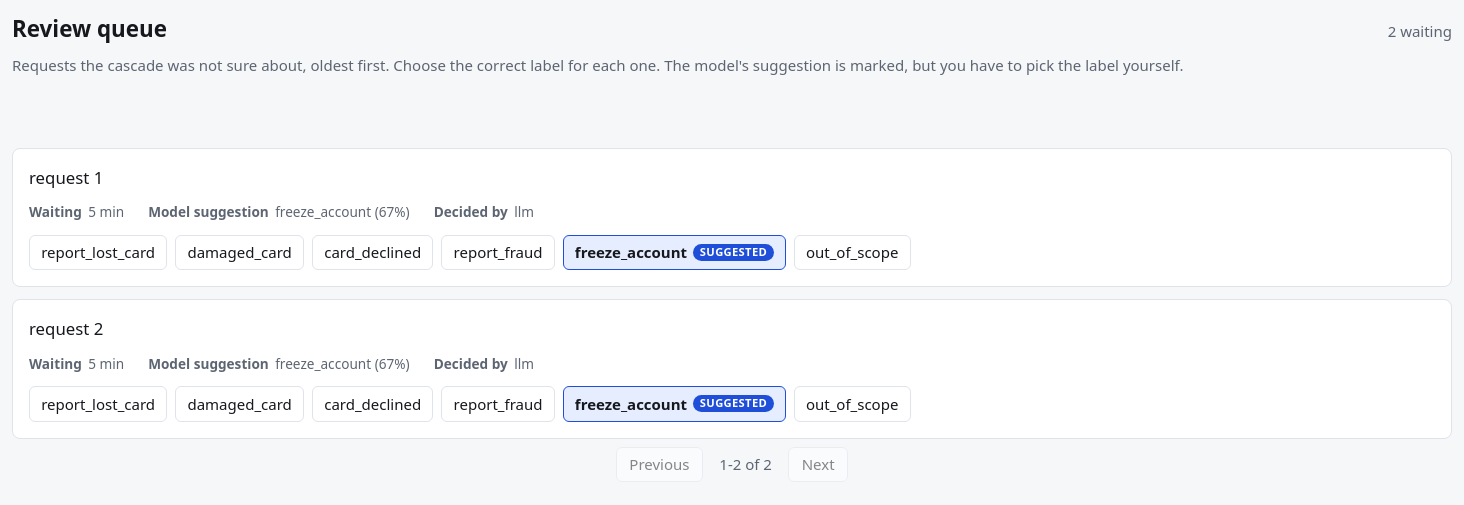
when a decision fails › keeps the request and reports an error when the label is refused
The width and height of the screenshot is (1464, 505).
Check: the list item "request 1" is shown, box [12,148,1452,287]
Click the 1st button "report_fraud". click: [498, 253]
box: [441,235,555,270]
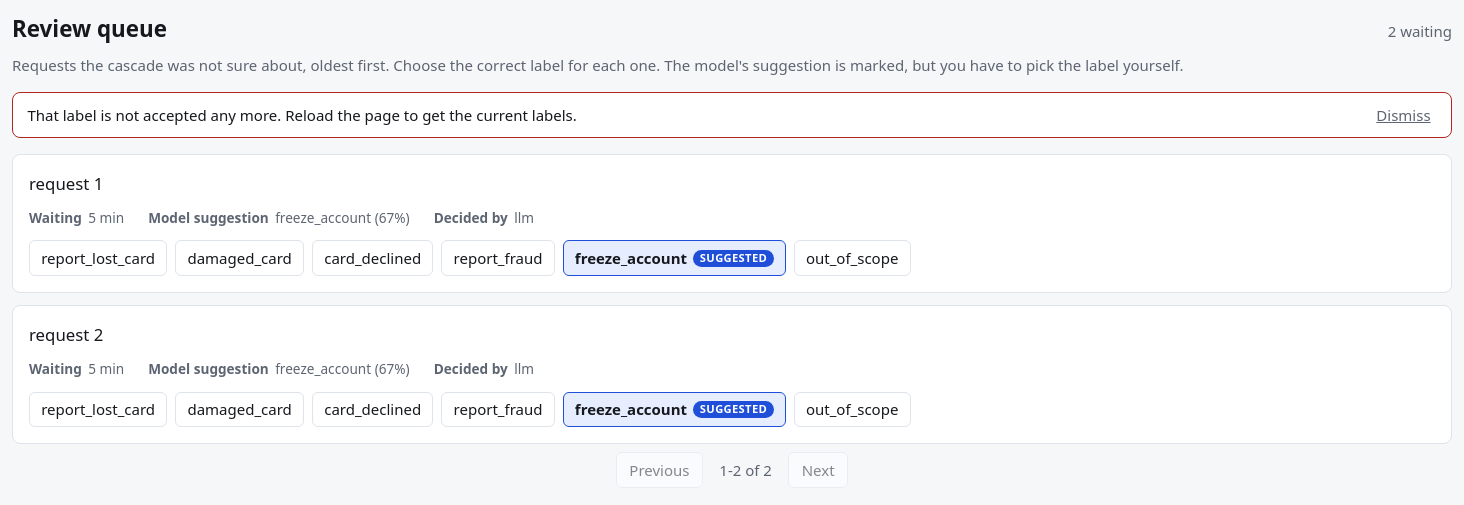
Check: the list item "request 1" is shown, box [12,154,1452,293]
Check: the text "not accepted any more" is shown, box [27,105,577,125]
